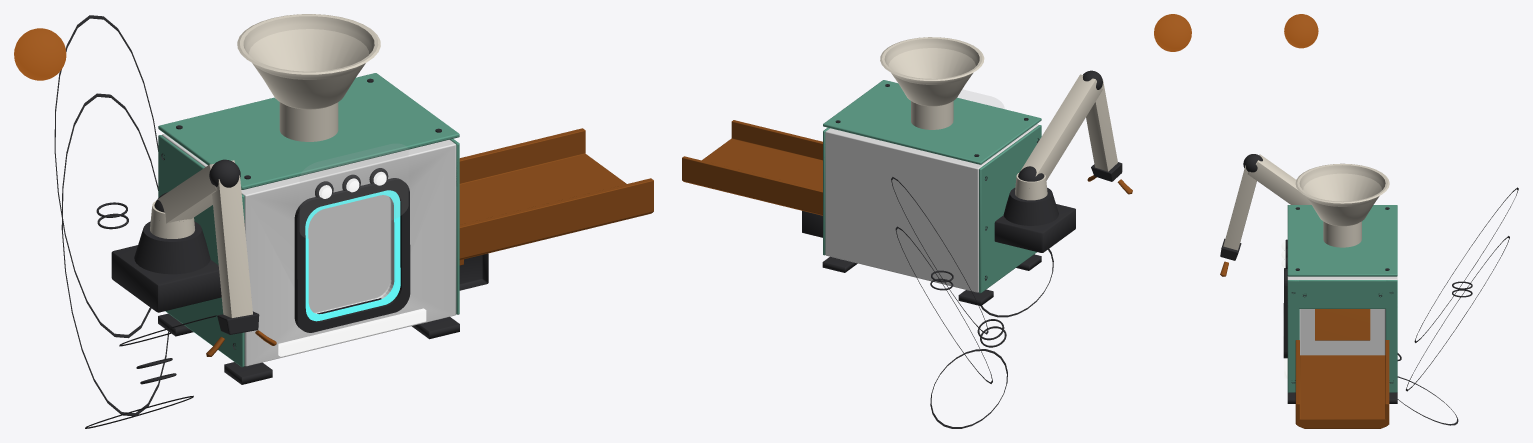
Rendered from hero_animation_v12_style.glb.
3 renders of one model, left to right at view 1: azimuth 30°, elevation 25°; view 2: azimuth 150°, elevation 25°; view 3: azimuth 270°, elevation 25°, orthographic. The views are drawn at different scales.
Parts seen in each view (by area): view 1: Machine_Body, Machine_Chute, Machine_Panel_Top, Machine_Hopper, Machine_Window, Machine_WindowFrame, Machine_Panel_L, Arm_Mount, Arm_Forearm, Arm_Base, Arm_Seams_Fore, Idea (+10 smaller); view 2: Machine_Body, Machine_Chute, Machine_Panel_Top, Machine_Hopper, Machine_Panel_L, Arm_UpperArm, Arm_Mount, Arm_Forearm, Arm_Base, Idea, Machine_Base, Arm_Seams_Fore (+2 smaller); view 3: Machine_Chute, Machine_Panel_Top, Machine_Hopper, Machine_Body, Machine_Panel_R_Top, Outlet_Flap, Arm_UpperArm, Machine_Panel_R_SideB, Machine_Panel_R_SideF, Arm_Forearm, Idea, Arm_Seams_Fore (+1 smaller).
Boxes of the visible parts, x1,y1,x2,y2 form: Machine_Body: (162,134,456,366); Machine_Chute: (459,128,653,265); Machine_Panel_Top: (158,73,459,189); Machine_Hopper: (237,14,380,141); Machine_Window: (300,144,407,238); Machine_WindowFrame: (294,178,410,332); Machine_Panel_L: (158,135,244,367); Arm_Mount: (111,245,221,312); Arm_Forearm: (212,175,252,317); Arm_Base: (134,221,210,274); Arm_Seams_Fore: (54,15,169,416); Idea: (14,28,66,80); Machine_Body: (825,124,1038,292); Machine_Chute: (682,120,822,215); Machine_Panel_Top: (823,80,1041,164); Machine_Hopper: (880,37,984,129); Machine_Panel_L: (979,125,1041,293); Arm_UpperArm: (1020,74,1102,180); Arm_Mount: (994,204,1075,252); Arm_Forearm: (1086,80,1117,171); Arm_Base: (1003,187,1058,225); Idea: (1154,14,1191,51); Machine_Base: (822,254,1041,305); Arm_Seams_Fore: (891,177,992,383); Machine_Chute: (1295,340,1389,428); Machine_Panel_Top: (1287,205,1397,276); Machine_Hopper: (1295,163,1389,247); Machine_Body: (1287,276,1397,355); Machine_Panel_R_Top: (1287,280,1397,308); Outlet_Flap: (1315,309,1370,340); Arm_UpperArm: (1247,154,1311,204); Machine_Panel_R_SideB: (1385,280,1397,392); Machine_Panel_R_SideF: (1287,280,1299,392); Arm_Forearm: (1223,165,1256,250); Idea: (1284,14,1318,48); Arm_Seams_Fore: (1406,187,1518,391).
Size of what is drawn, in the model's own units: 6.95 by 5.53 by 4.34.
